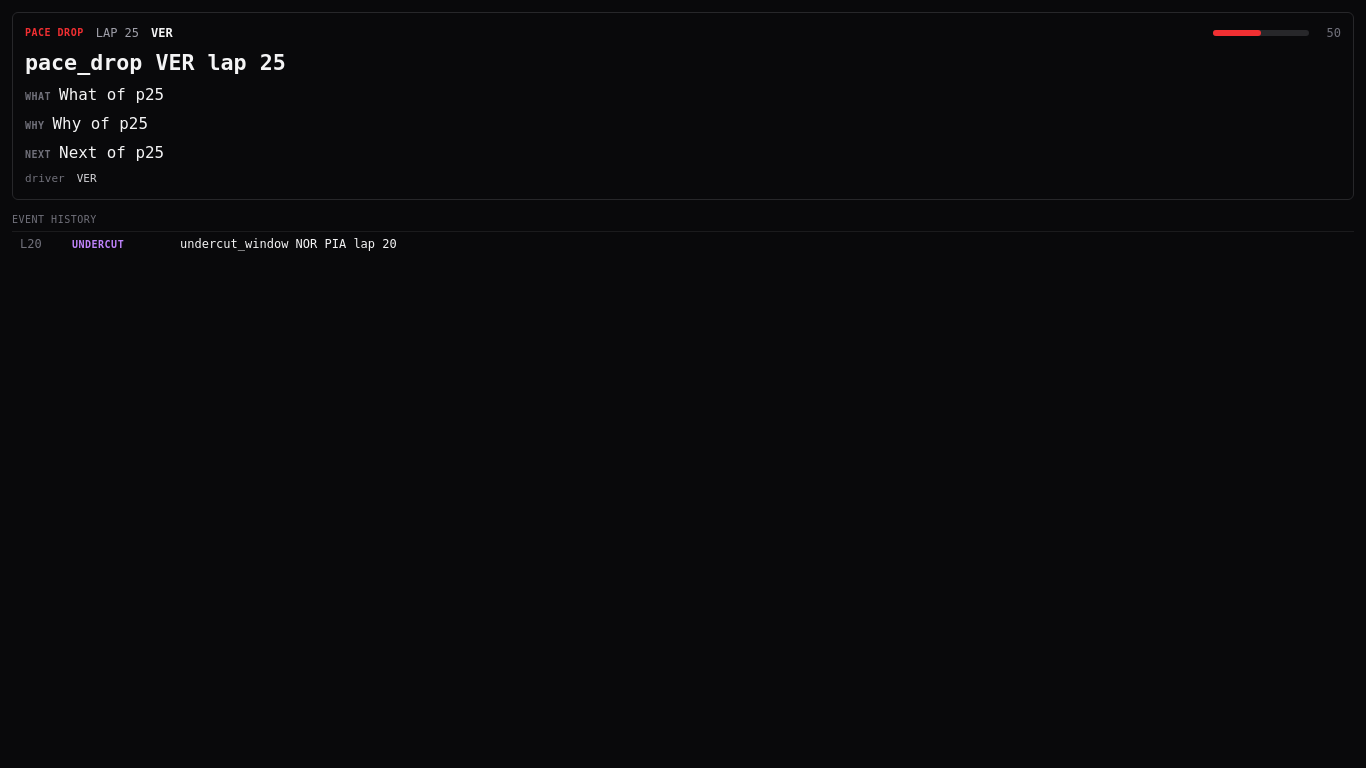
it: Clickable numbers with a chart popover › Escape closes the popover; clicking the same number twice opens and then closes it
The width and height of the screenshot is (1366, 768).
Click the button: click(98, 244) 12,232 -> 1354,256
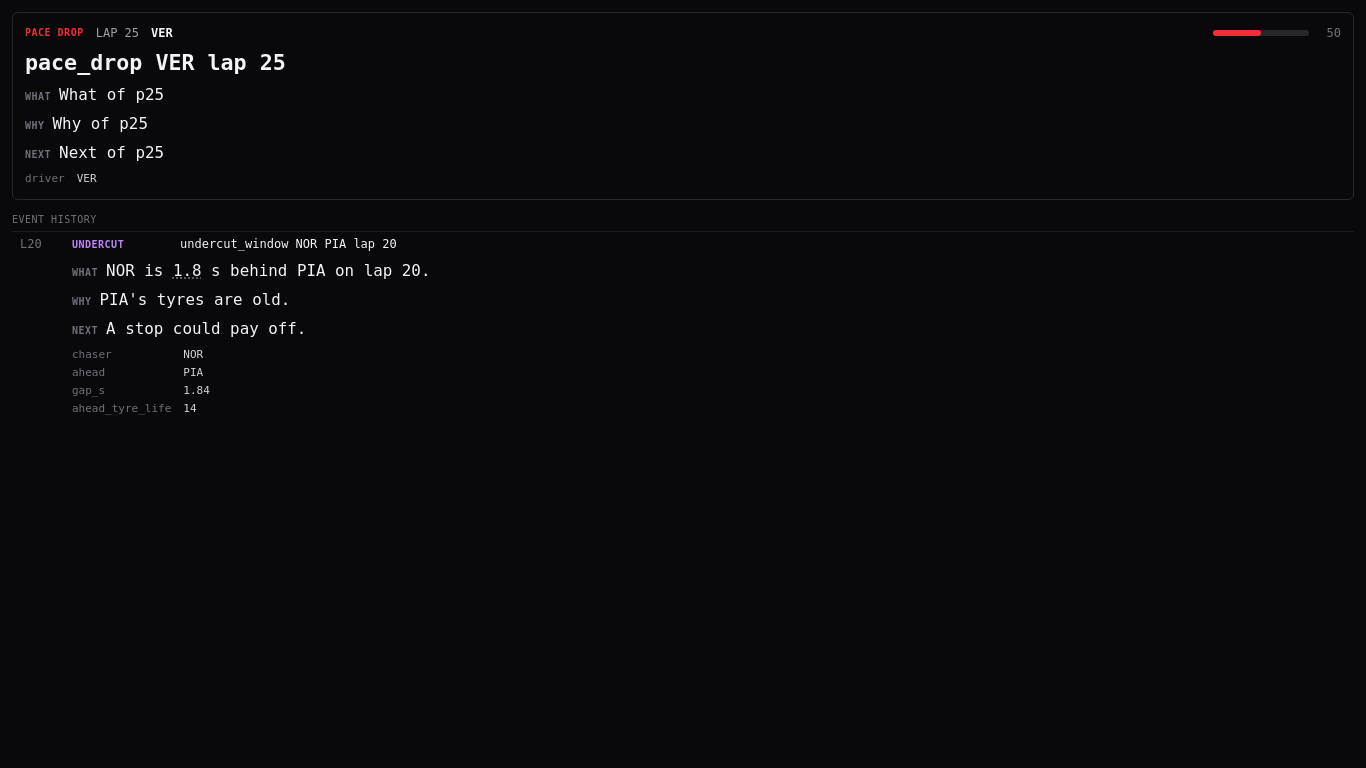
Click the button named "1.8: show on chart": click(187, 272) 173,260 -> 202,283
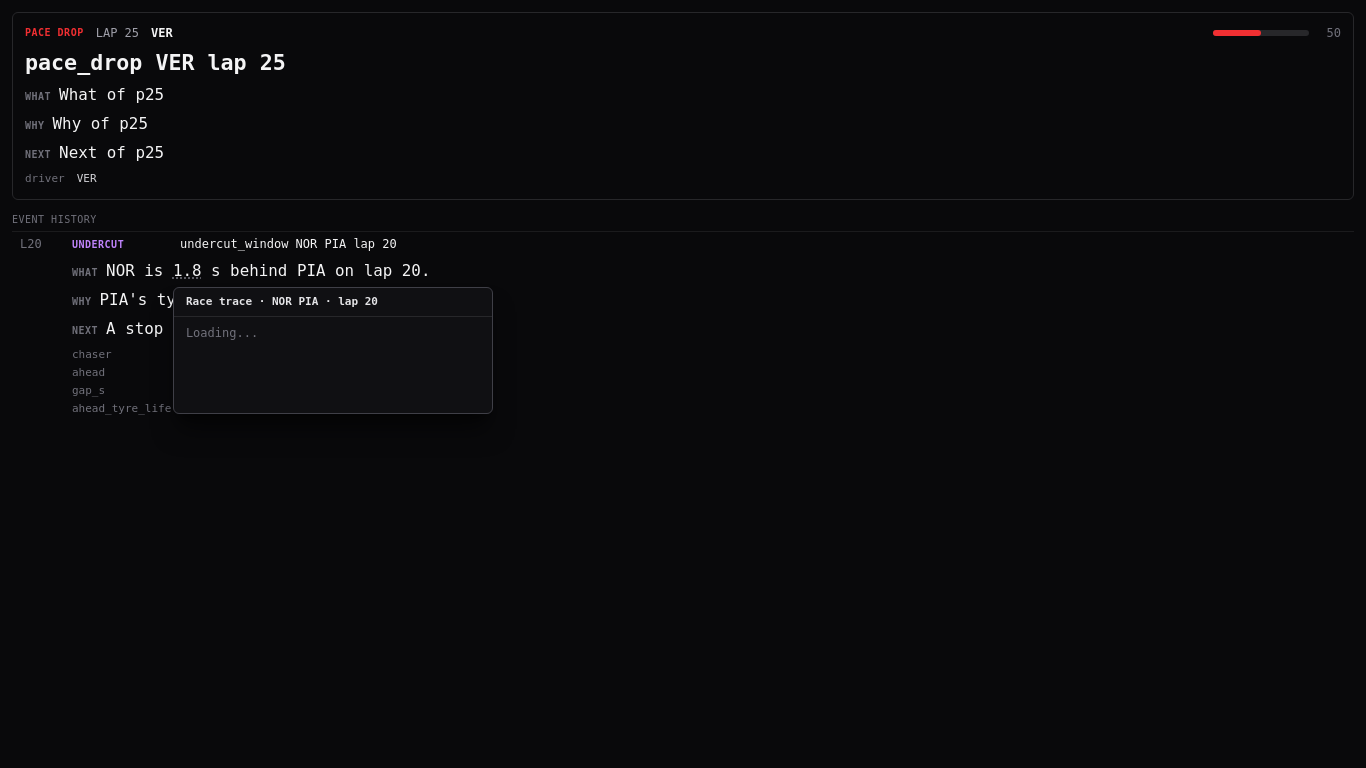
Expected: the dialog is shown, 173,287 -> 493,414
Press Escape
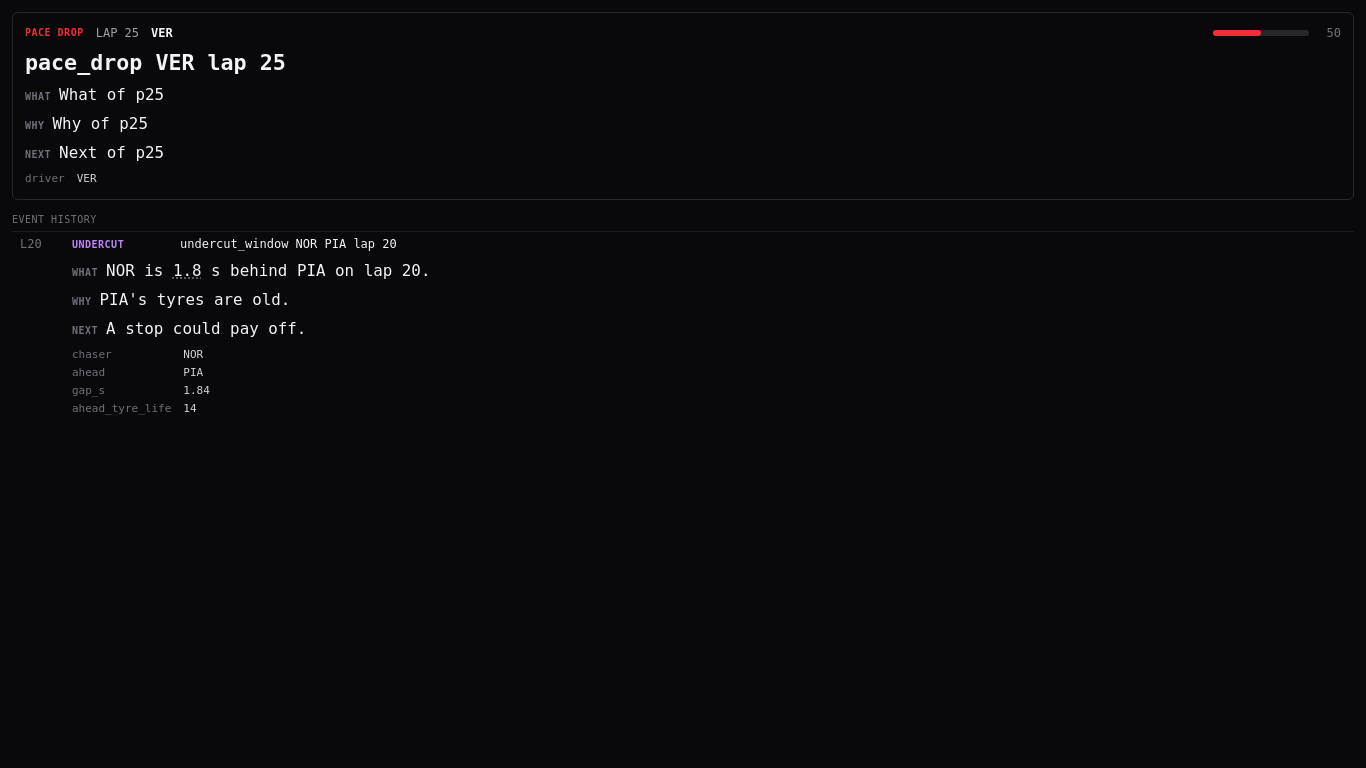
Expected: the dialog is gone
Click the button named "1.8: show on chart": click(187, 272) 173,260 -> 202,283
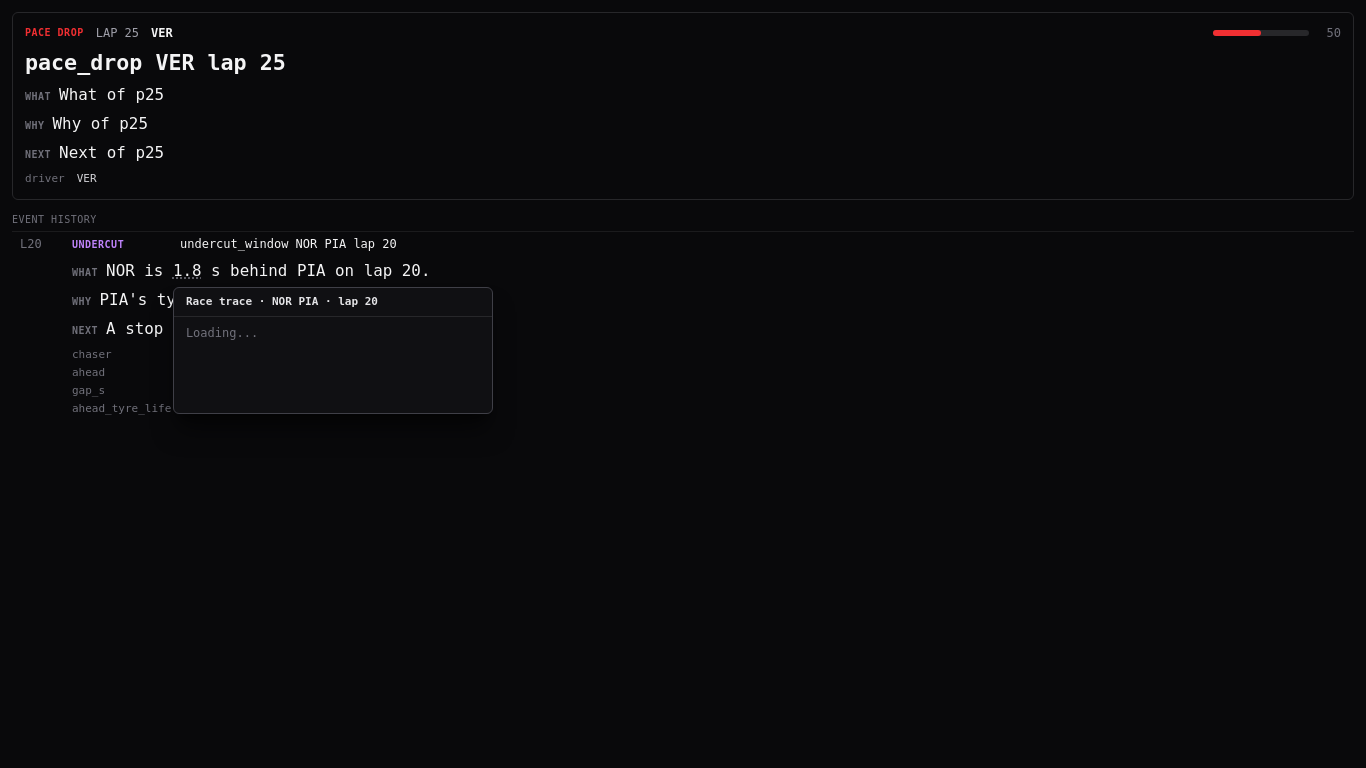
Expected: the dialog is shown, 173,287 -> 493,414
Click the button named "1.8: show on chart": click(187, 272) 173,260 -> 202,283
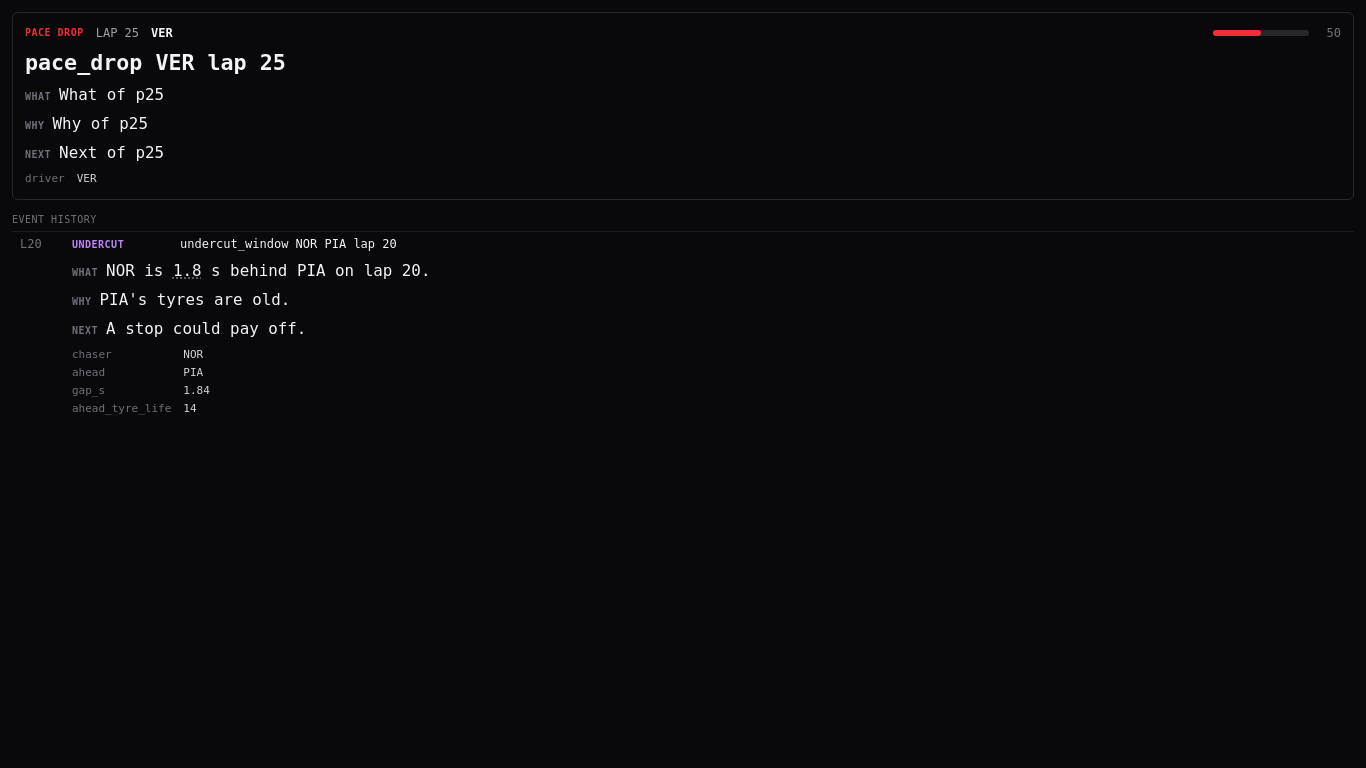
Expected: the dialog is gone
